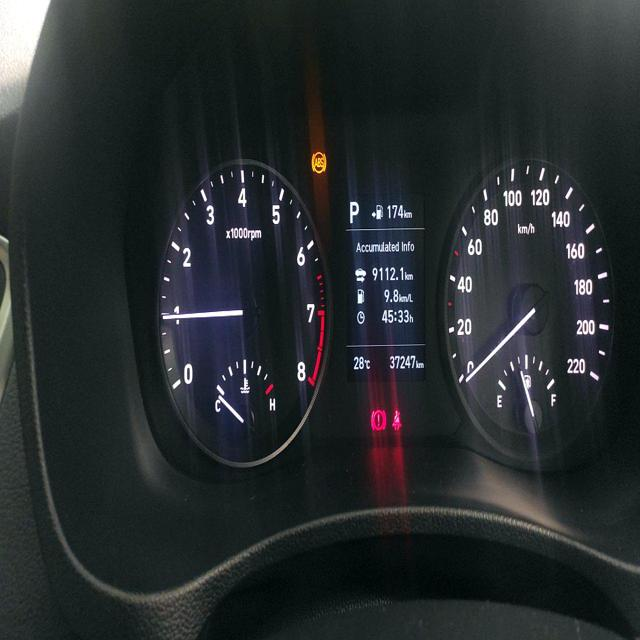odometer: (388, 352, 416, 372)
